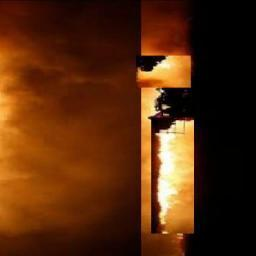Heavy smoke: (0, 0, 142, 255)
Large fire: (152, 93, 192, 234)
